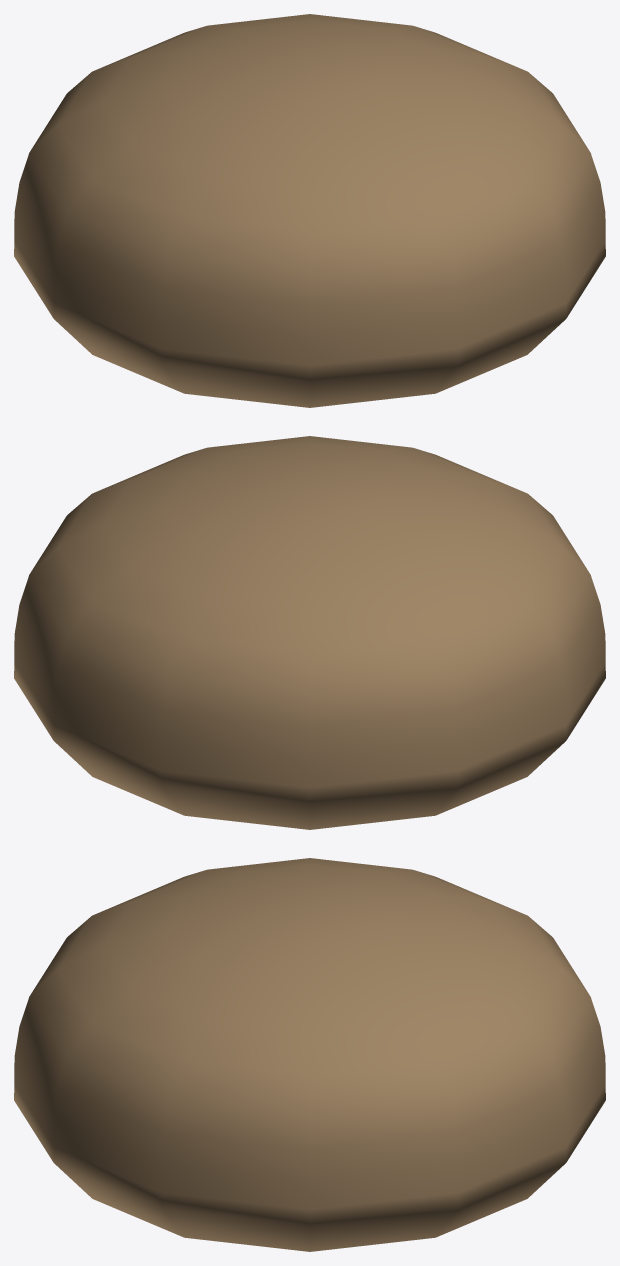
Rendered from SM_BunUncut.fbx.
3 renders of one model, top to bottom at view 1: azimuth 30°, elevation 25°; view 2: azimuth 150°, elevation 25°; view 3: azimuth 270°, elevation 25°, orthographic.
Parts seen in each view (by area): view 1: BunUncut; view 2: BunUncut; view 3: BunUncut.
Boxes of the visible parts, left/top/right/bottom form: BunUncut: left=14, top=14, right=605, bottom=407; BunUncut: left=14, top=436, right=605, bottom=829; BunUncut: left=14, top=858, right=605, bottom=1251.
Size of the model in its own units: 20.29 by 8.88 by 20.29.
